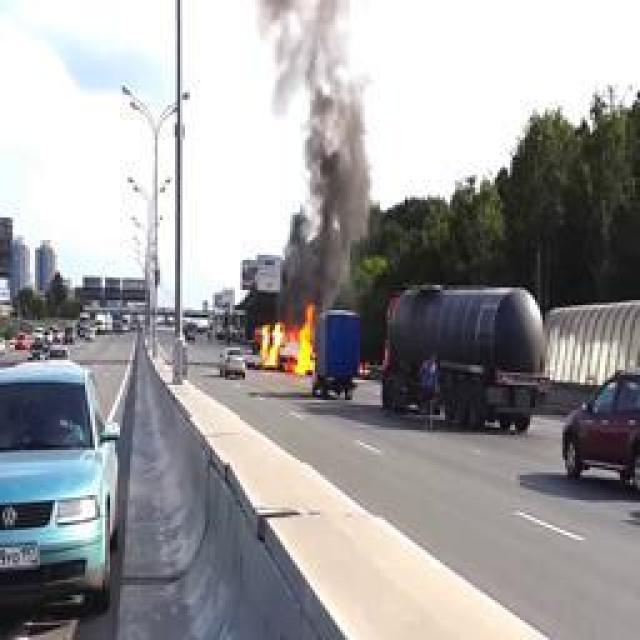Fire: (258, 298, 314, 374)
